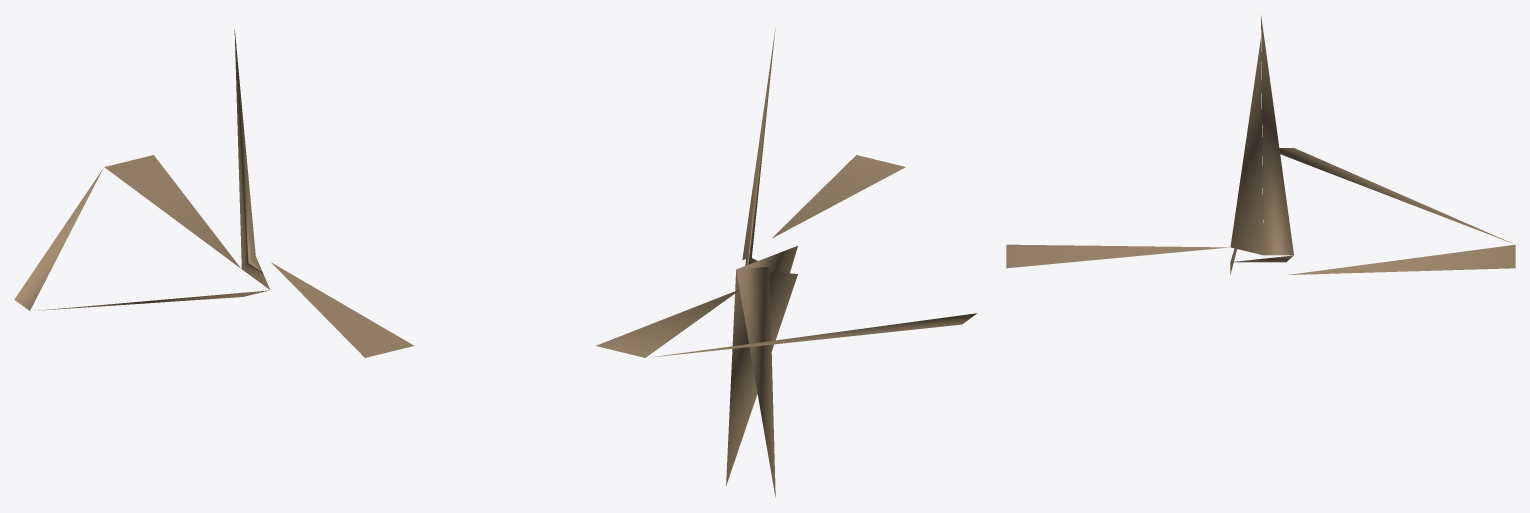
Rendered from equip_feet_leather_boots.glb.
3 renders of one model, left to right at view 1: azimuth 30°, elevation 25°; view 2: azimuth 150°, elevation 25°; view 3: azimuth 270°, elevation 25°, orthographic. The views are drawn at different scales.
Visible parts, largest first — view 1: equip_feet_leather_boots; view 2: equip_feet_leather_boots; view 3: equip_feet_leather_boots.
Part boxes in pixels (box(x1,y1,x2,y2)): equip_feet_leather_boots: box(14, 29, 414, 357); equip_feet_leather_boots: box(596, 30, 977, 497); equip_feet_leather_boots: box(1006, 15, 1515, 274).
Bounding box in the file's own units: 2 × 2 × 2.
